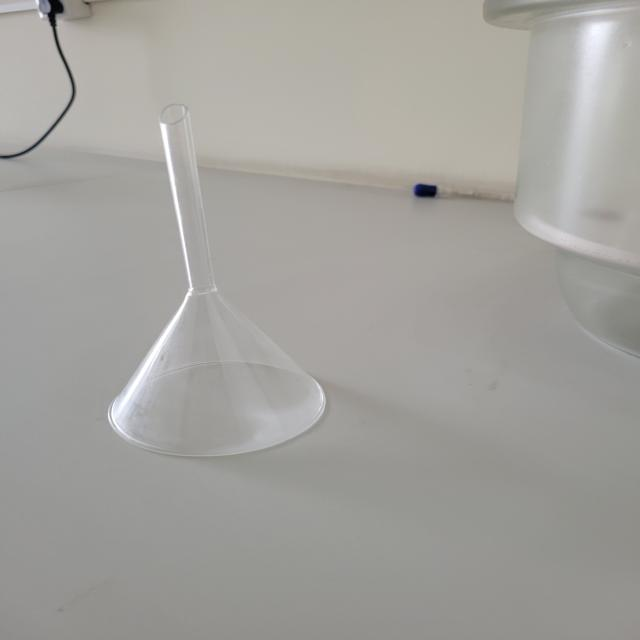Funnel: (72, 84, 377, 493)
